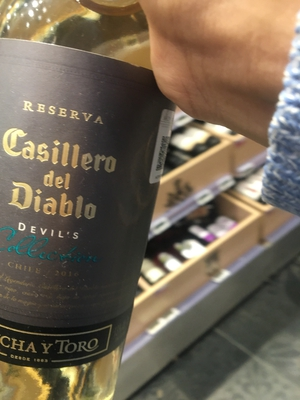casillero del diablo devils collection verde: (2, 29, 185, 400)
